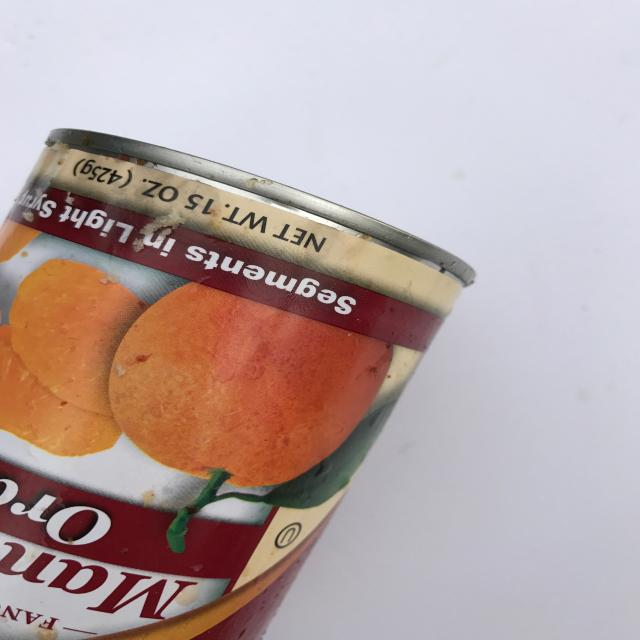metal: (0, 126, 477, 640)
